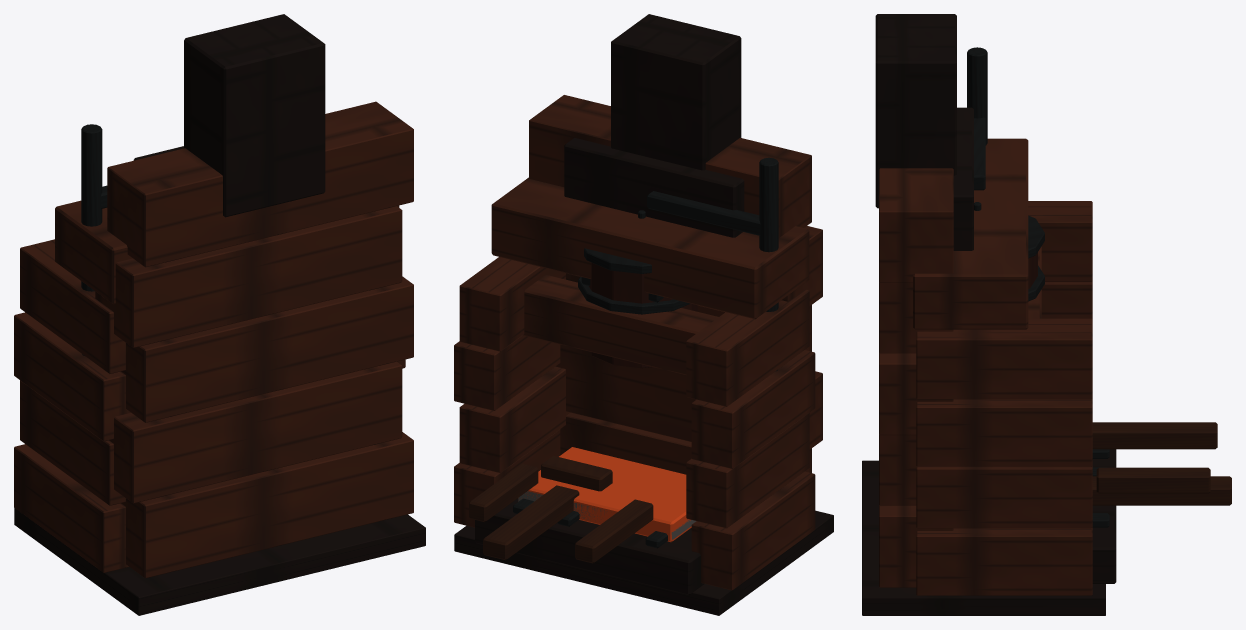
File: medieval_hearth_kit.glb
The picture shows the model from 3 angles, left to right: view 1: azimuth 30°, elevation 25°; view 2: azimuth 150°, elevation 25°; view 3: azimuth 270°, elevation 25°; orthographic projection. The views are drawn at different scales.
Parts seen in each view (by area): view 1: Flue.002, BackCourse4.002, BackCourse3.002, BackCourse1.002, BackCourse0.002, BackCourse2.002, BrickPlinth.002, Cheek0_L.002, Cheek2_L.002, Cheek3_L.002, Cheek1_L.002, Hood.002 (+1 smaller); view 2: Hood.002, Flue.002, BackCourse4.002, Lintel.002, HoodThroat.002, BackCourse1.002, Cheek3_L.002, Cheek2_L.002, Cheek0_L.002, HearthFloor.002, Cheek1_L.002, Cheek1_R.002 (+16 smaller); view 3: Hood.002, Cheek3_R.002, Flue.002, Cheek2_R.002, Cheek0_R.002, Cheek1_R.002, BackCourse4.002, BrickPlinth.002, Cheek3_L.002, Kindling0, BackCourse0.002, BackCourse2.002 (+10 smaller).
Part boxes in pixels (<box>): Flue.002: <box>184,14,325,217</box>; BackCourse4.002: <box>107,101,413,267</box>; BackCourse3.002: <box>95,206,402,347</box>; BackCourse1.002: <box>109,361,402,503</box>; BackCourse0.002: <box>121,432,413,578</box>; BackCourse2.002: <box>121,276,413,422</box>; BrickPlinth.002: <box>14,508,425,615</box>; Cheek0_L.002: <box>14,444,128,572</box>; Cheek2_L.002: <box>14,312,130,441</box>; Cheek3_L.002: <box>20,239,125,373</box>; Cheek1_L.002: <box>20,380,125,505</box>; Hood.002: <box>55,200,399,304</box>; Hood.002: <box>491,177,809,319</box>; Flue.002: <box>611,14,741,170</box>; BackCourse4.002: <box>529,95,811,237</box>; Lintel.002: <box>523,275,718,374</box>; HoodThroat.002: <box>564,138,744,237</box>; BackCourse1.002: <box>556,344,822,449</box>; Cheek3_L.002: <box>686,289,809,406</box>; Cheek2_L.002: <box>691,350,815,468</box>; Cheek0_L.002: <box>691,471,815,590</box>; HearthFloor.002: <box>475,470,704,595</box>; Cheek1_L.002: <box>686,413,809,528</box>; Cheek1_R.002: <box>459,366,570,472</box>; Hood.002: <box>913,138,1028,329</box>; Cheek3_R.002: <box>916,318,1092,399</box>; Flue.002: <box>875,14,956,208</box>; Cheek2_R.002: <box>916,398,1092,466</box>; Cheek0_R.002: <box>916,528,1092,595</box>; Cheek1_R.002: <box>916,466,1092,528</box>; BackCourse4.002: <box>879,168,953,282</box>; BrickPlinth.002: <box>862,460,1105,615</box>; Cheek3_L.002: <box>1028,201,1092,281</box>; Kindling0: <box>1092,422,1217,449</box>; BackCourse0.002: <box>879,505,953,587</box>; BackCourse2.002: <box>879,353,953,435</box>.
Size of the model in its own units: 1.01 by 1.66 by 1.09.
7 materials, 5 textured.
